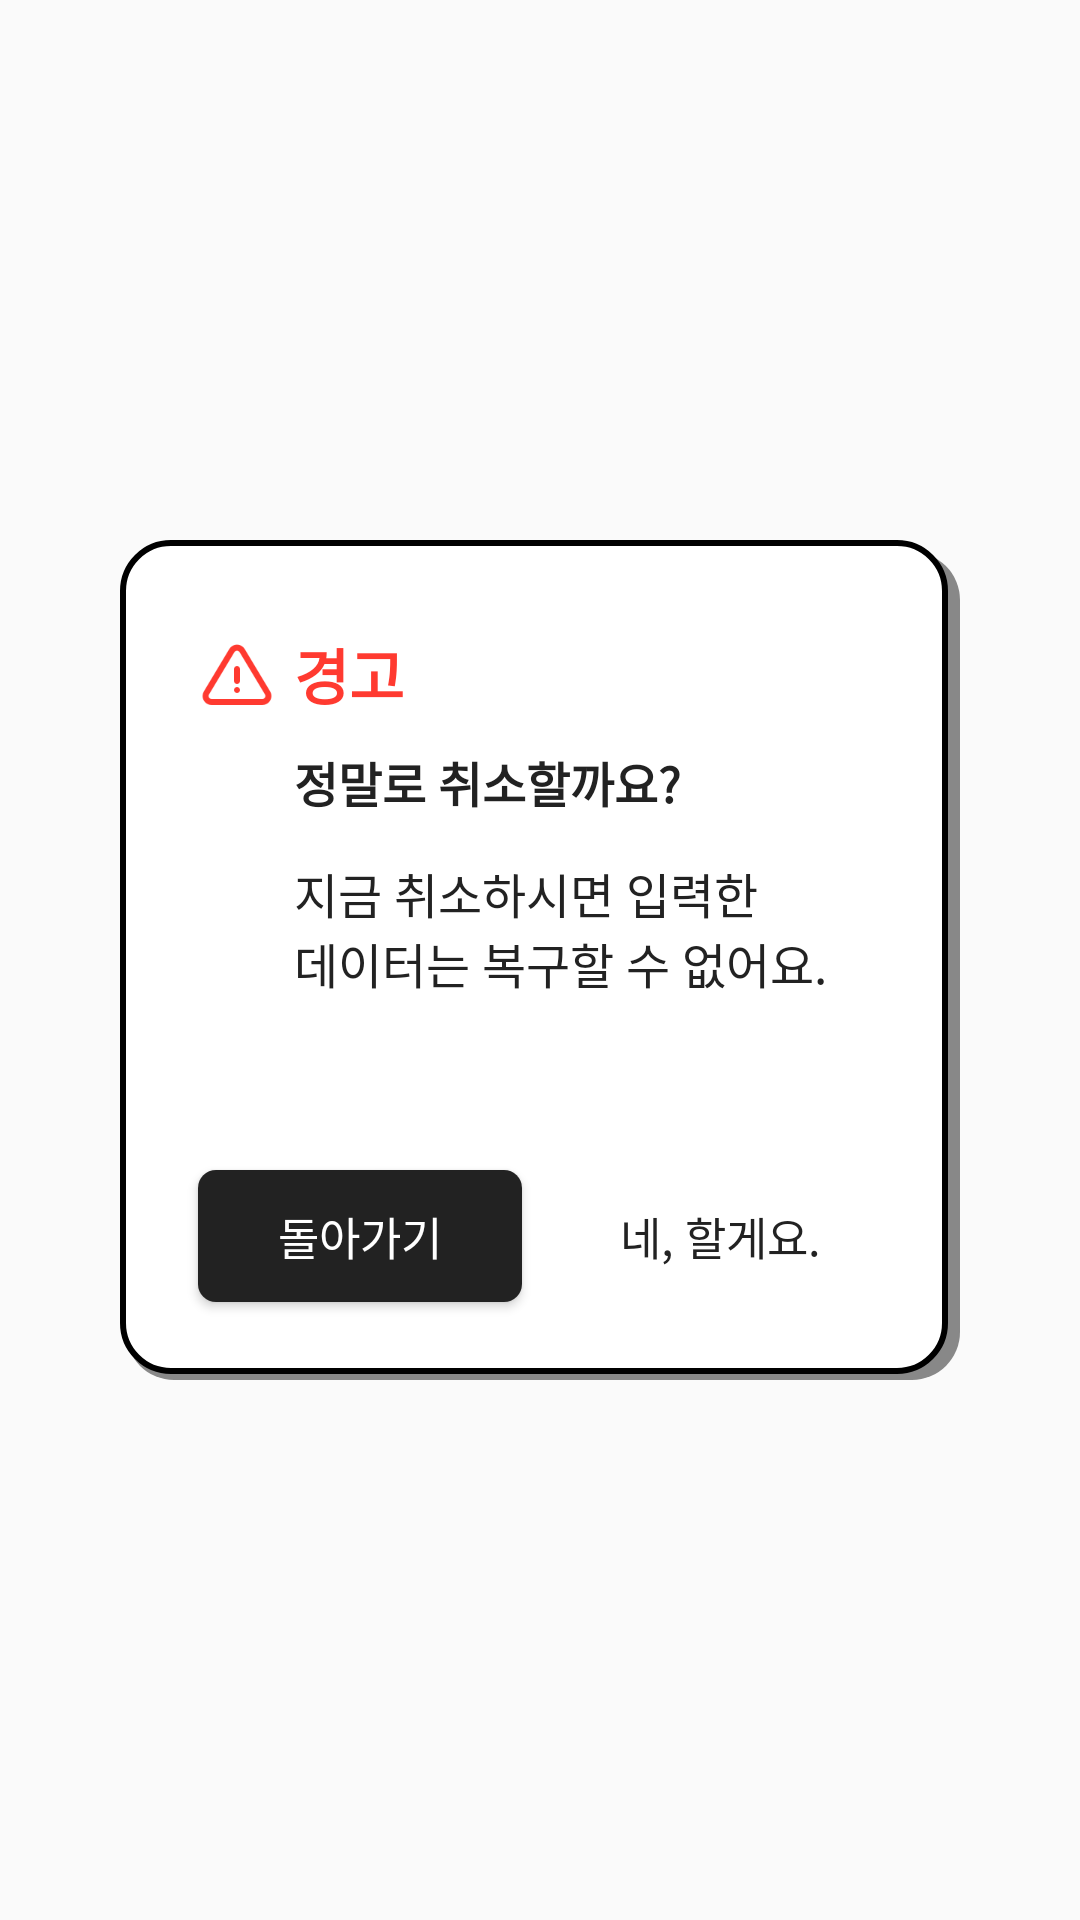

Icons on this 1080w x 1920h Android screen, each with the point to tap as [x,y]:
popup caution: [237,674]
